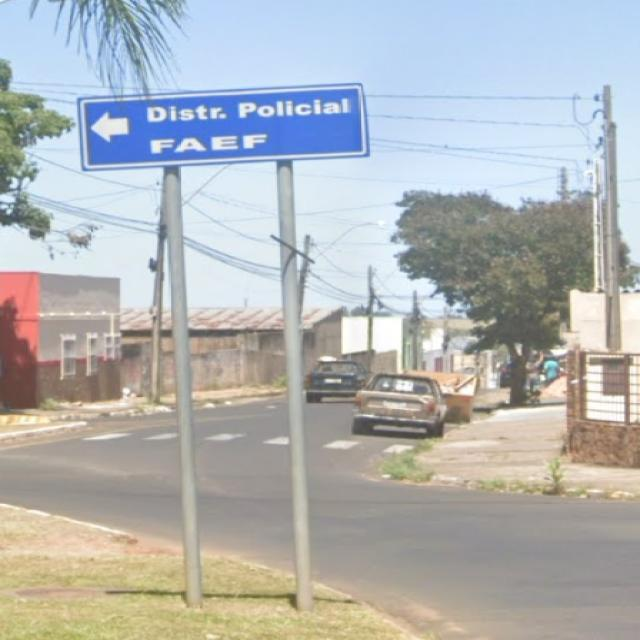indication: (46, 72, 406, 183)
